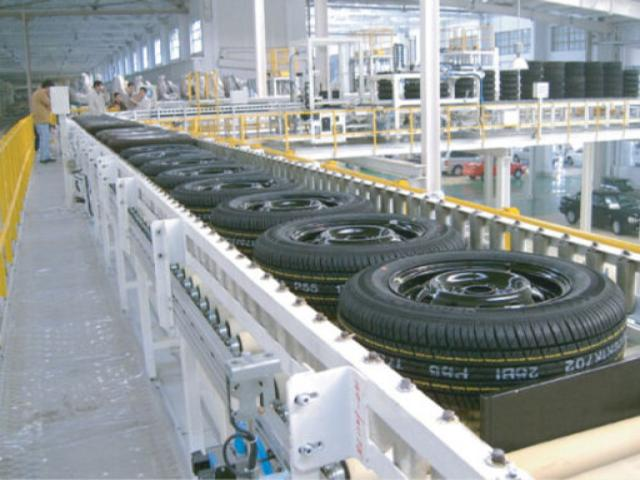conveyor: (47, 107, 640, 480)
